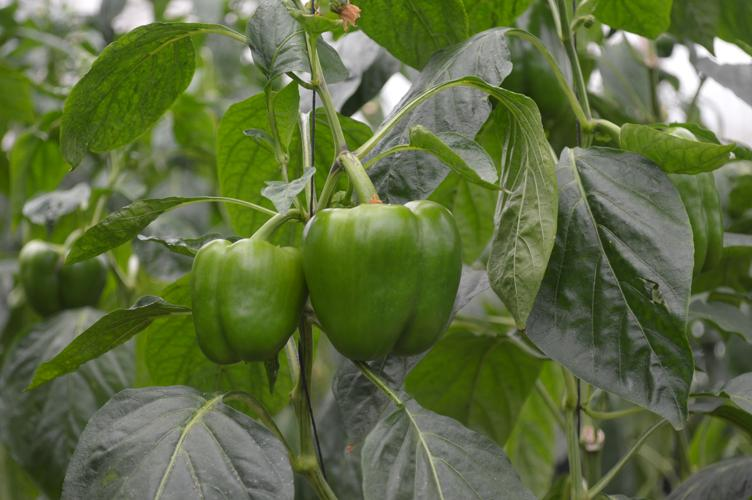BellPepper: (302, 203, 471, 363), (186, 239, 300, 361), (17, 238, 115, 325)
